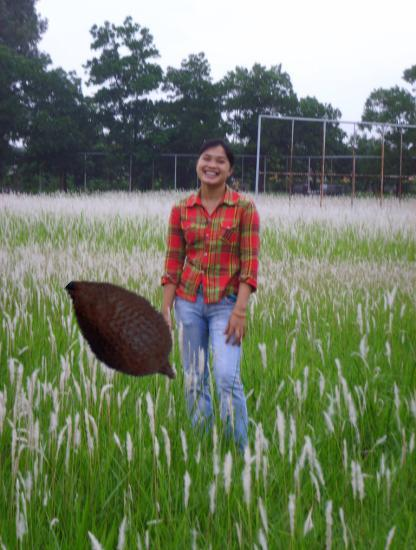Salak: (52, 258, 196, 402)
